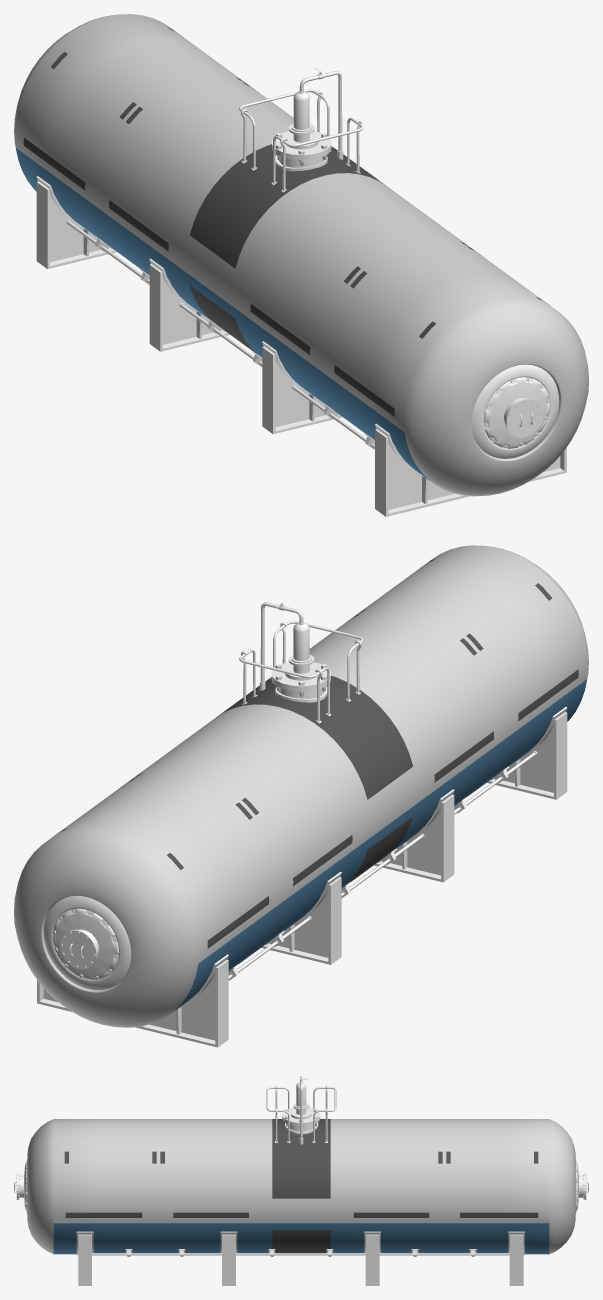
3 views of the same model, one above another, from view 1: azimuth 30°, elevation 25°; view 2: azimuth 150°, elevation 25°; view 3: azimuth 270°, elevation 25° (orthographic). The views are drawn at different scales.
Visible parts, largest first — view 1: SM_H_Industrial_Mechanical_MetalSilo_02c; view 2: SM_H_Industrial_Mechanical_MetalSilo_02c; view 3: SM_H_Industrial_Mechanical_MetalSilo_02c.
Part boxes in pixels (x1,y1,x2,y2): SM_H_Industrial_Mechanical_MetalSilo_02c: (14,14,588,516); SM_H_Industrial_Mechanical_MetalSilo_02c: (14,545,588,1047); SM_H_Industrial_Mechanical_MetalSilo_02c: (14,1076,588,1285).
Size of the model in its own units: 716 by 169 by 254.
